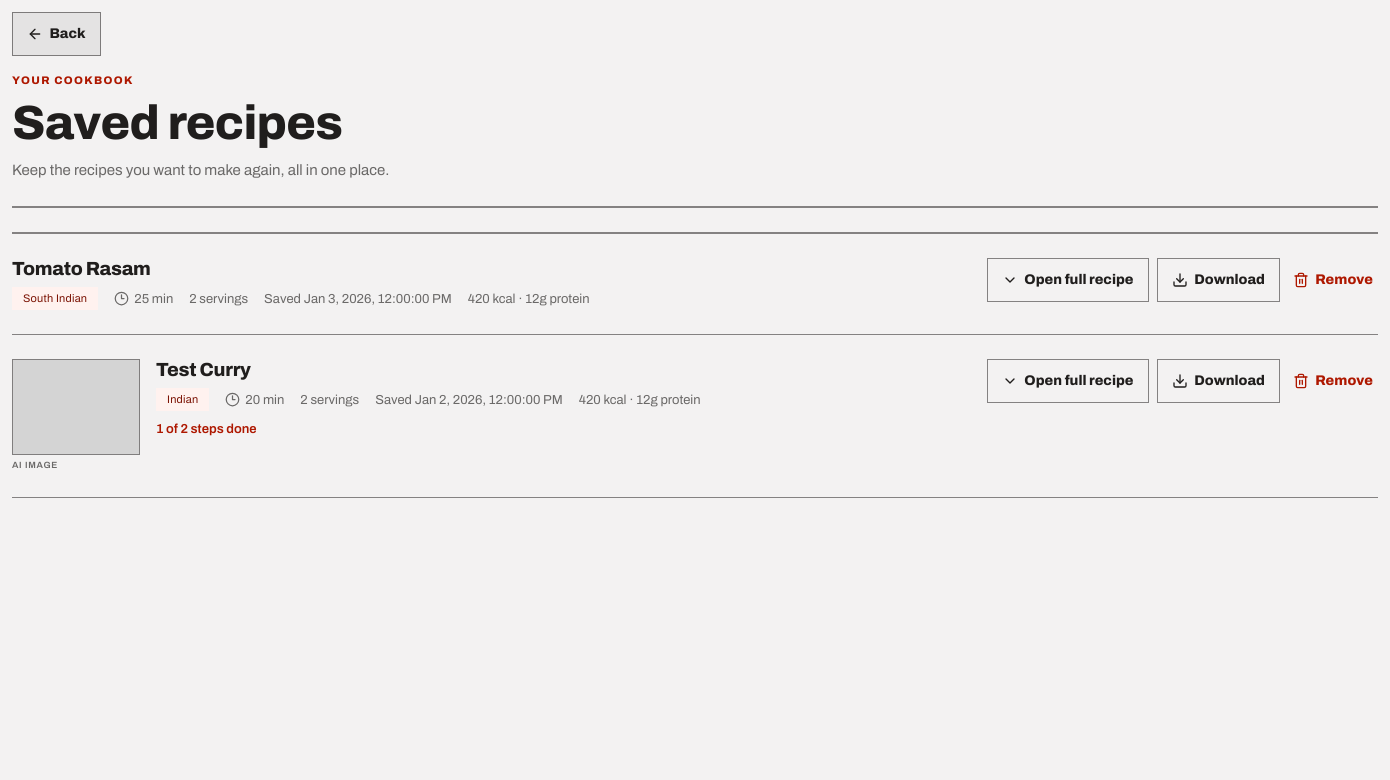
Scenario: SavedRecipesScreen › removes an entry only after inline confirmation
Click the button "Remove" in the row of "Jan 2, 2026, 12:00:00 PM" at [1333, 381], box [1288,359,1378,403]
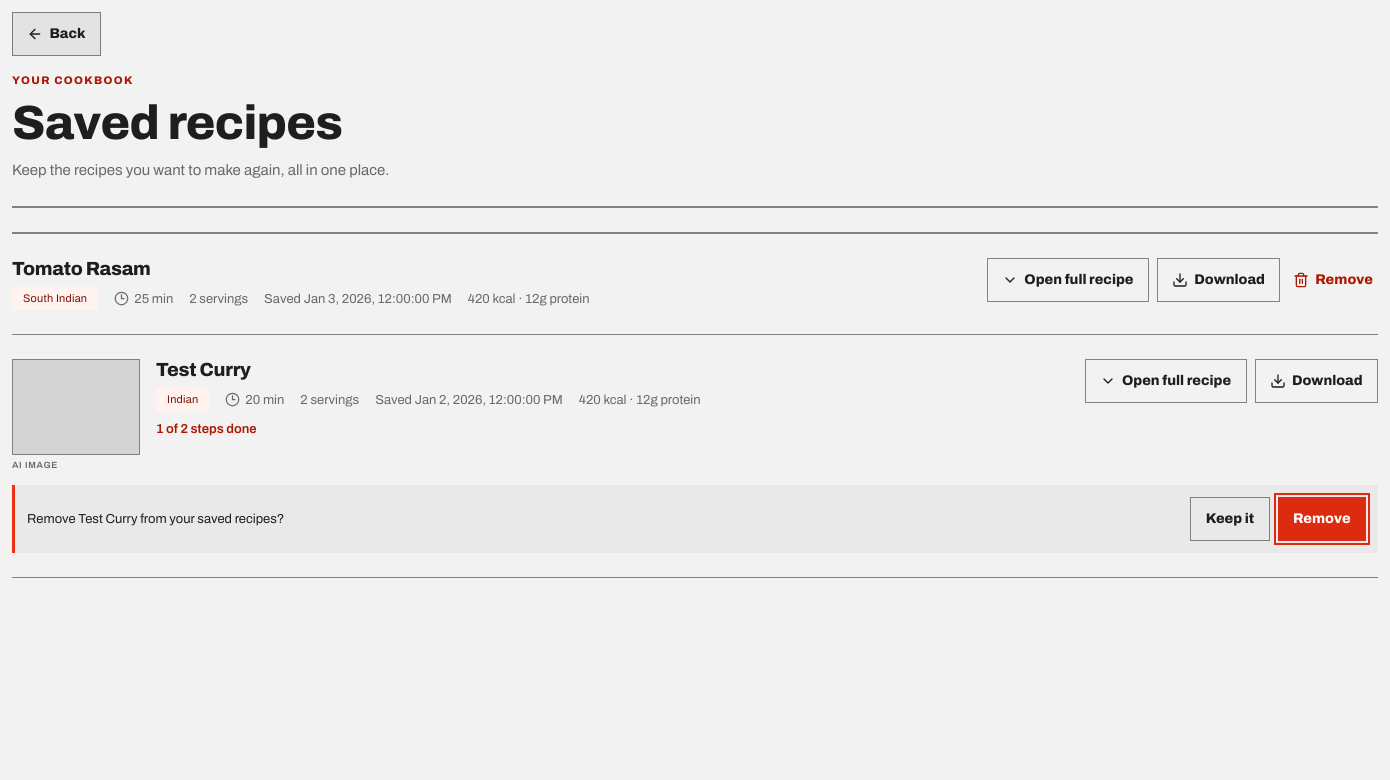
Check: the heading "Test Curry" is shown, box [156,359,251,380]
Click the button "Remove" in the row of "from your saved recipes?" at [1322, 519], box [1278,497,1366,541]
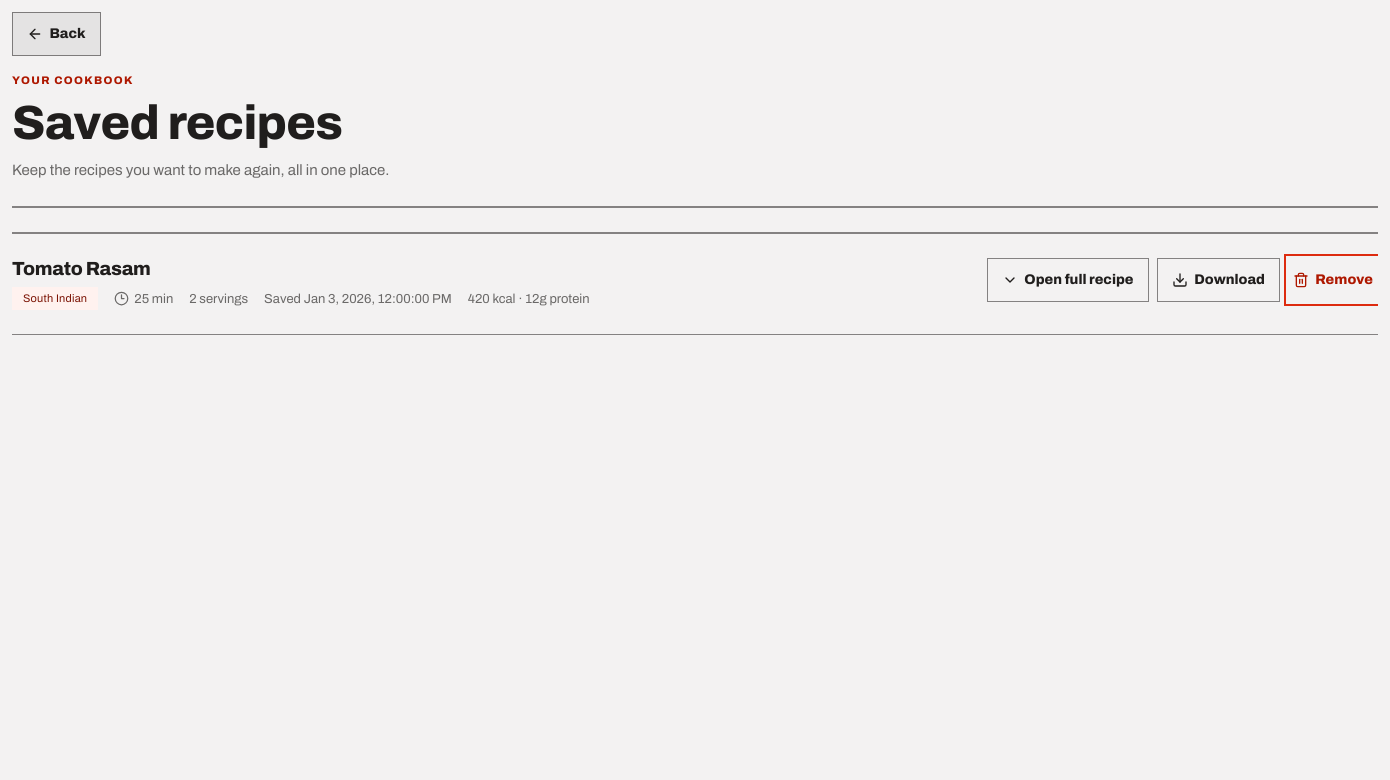
Check: the heading "Tomato Rasam" is shown, box [12,258,151,279]
Check: the heading "Test Curry" is gone
